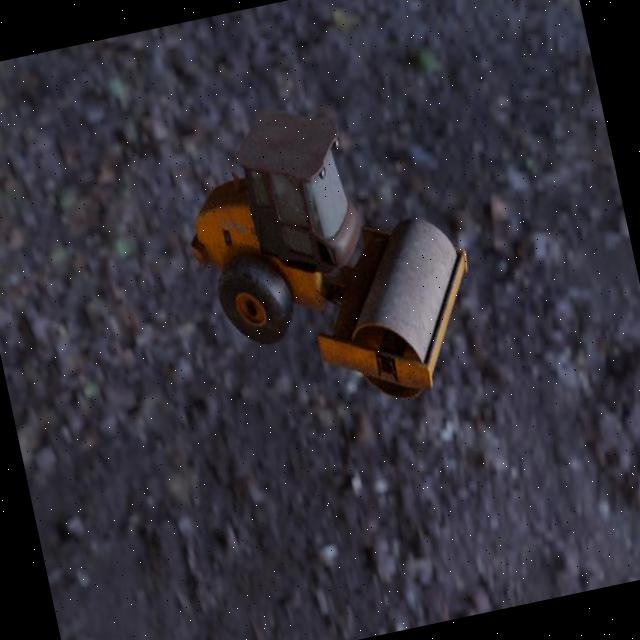Roller: (165, 75, 492, 437)
